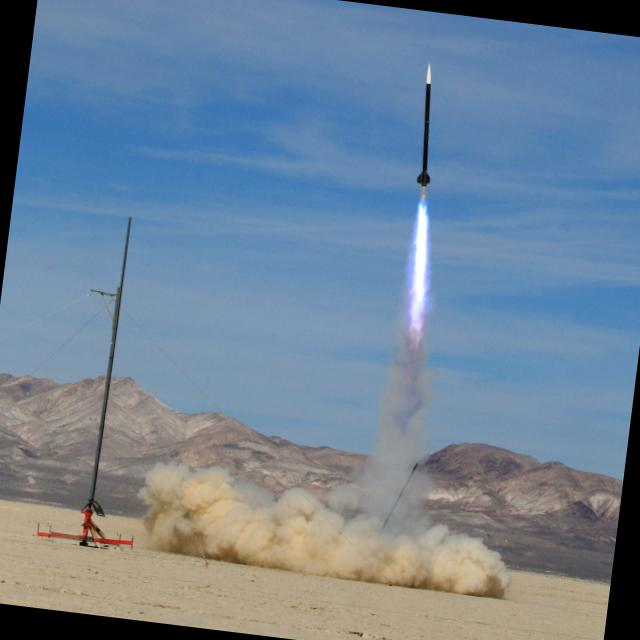rocket: (381, 64, 462, 337)
